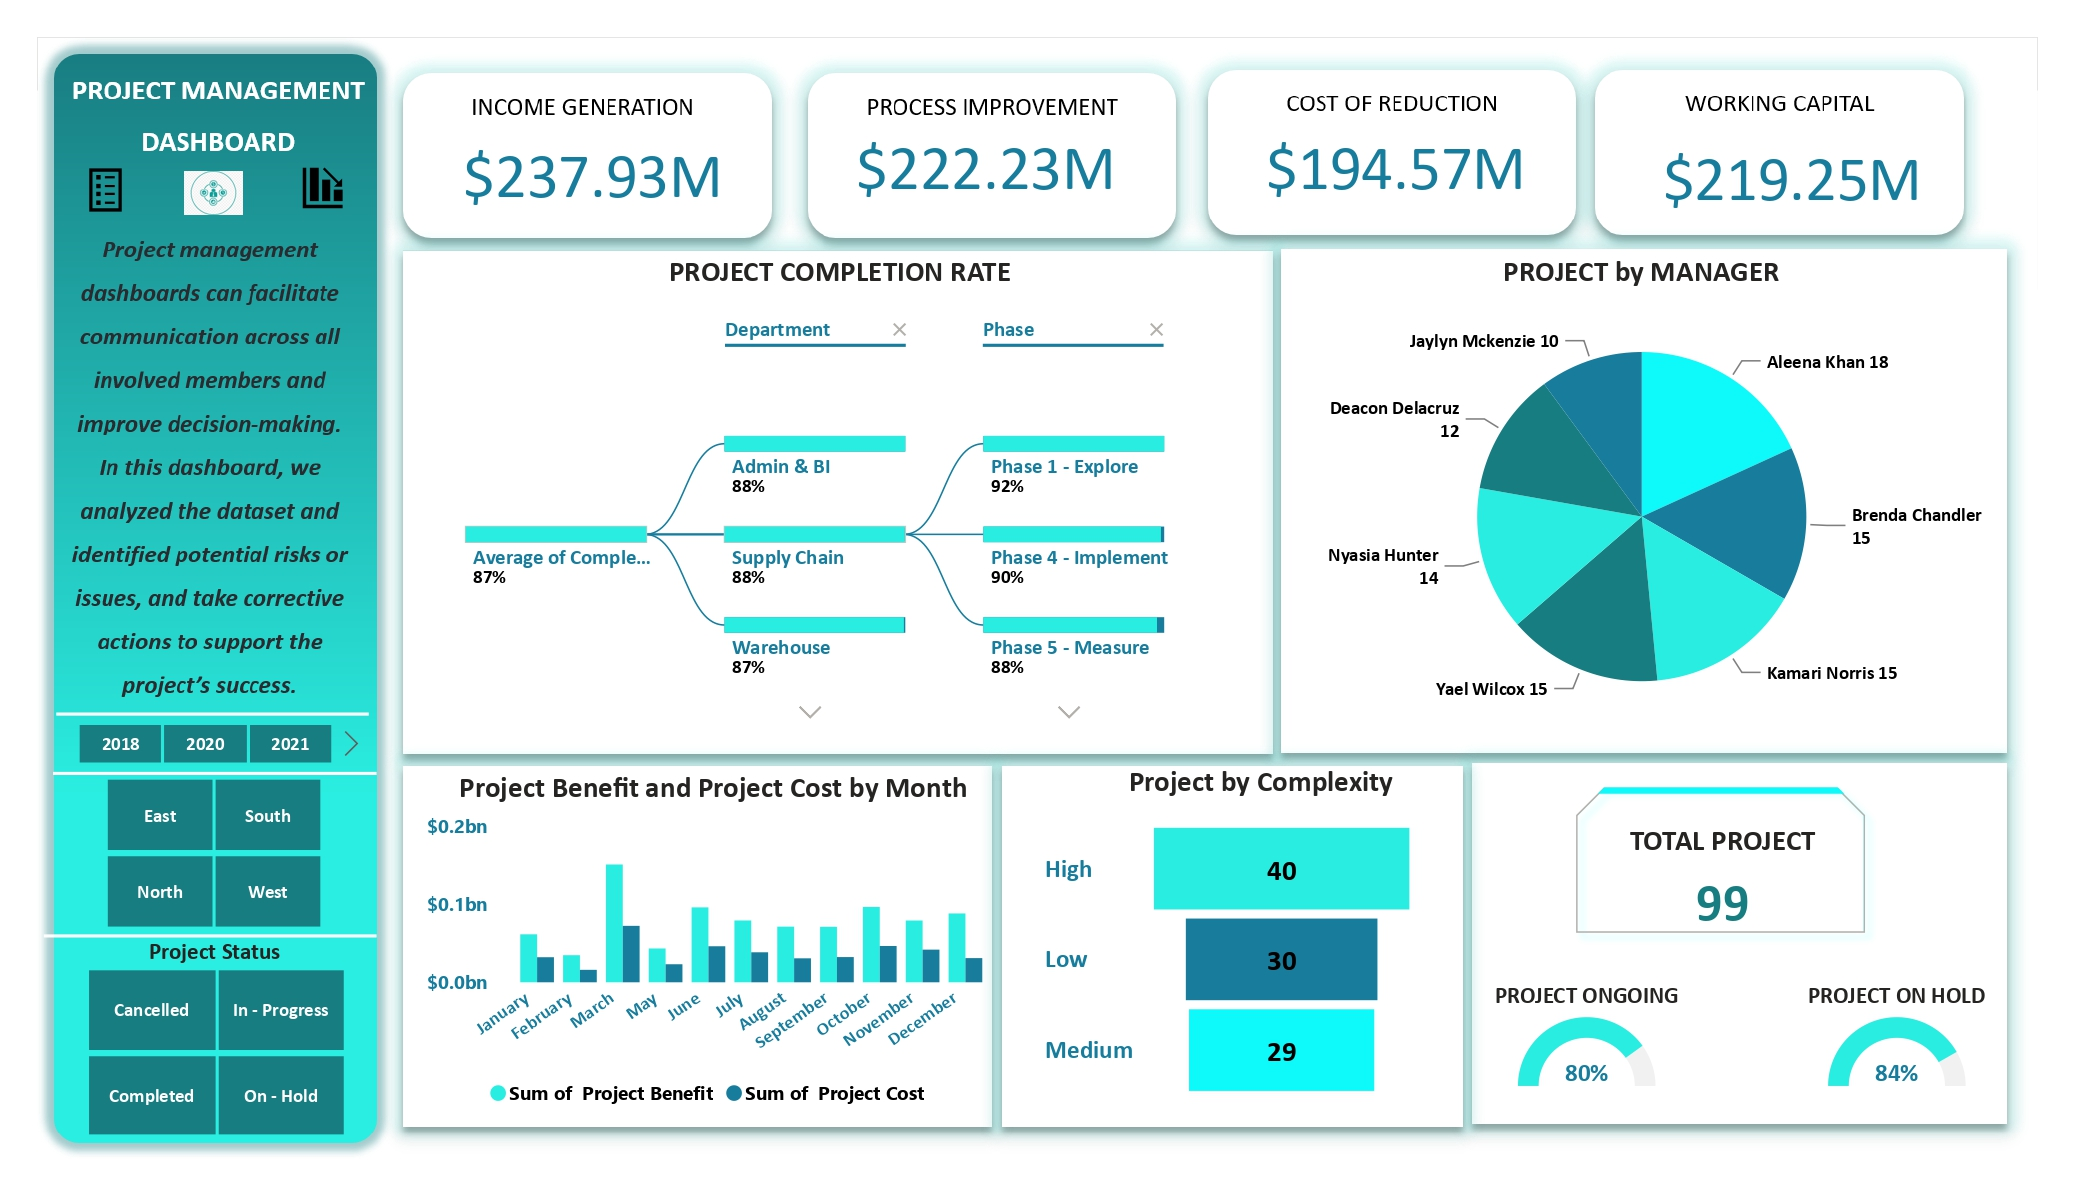

Layout of this report page (visuals, bound fields, positions):
{"tool":"powerbi","page":{"name":"Page 1","canvas":[1280,720],"ordinal":0},"visuals":[{"type":"card","title":"INCOME GENERATION","fields":{"Values":["Project Management Dataset. Project Benefit "]},"box":[261.7,52.7,187,66.7],"z":0},{"type":"card","title":"PROCESS IMPROVEMENT","fields":{"Values":["Project Management Dataset. Project Benefit "]},"box":[507.2,39,200.2,84.3],"z":1000},{"type":"cardVisual","fields":{"Data":["Project Management Dataset.Status"]},"box":[968.5,462.7,219.5,127.3],"z":2000},{"type":"card","title":"COST REDUCTION","fields":{"Values":["Project Management Dataset. Project Benefit "]},"box":[770.9,38.6,197.6,84.3],"z":3000},{"type":"card","title":"WORKING CAPITAL","fields":{"Values":["Project Management Dataset. Project Benefit "]},"box":[1030.8,52.7,184.4,70.2],"z":4000},{"type":"clusteredColumnChart","title":"Project Benefit  and Project Cost  by Month","fields":{"Y":["Project Management Dataset. Project Benefit ","Project Management Dataset. Project Cost "],"Category":["Project Management Dataset.End Date.Variation.Date Hierarchy.Month"]},"box":[243.8,467.7,377.1,226],"z":5000},{"type":"decompositionTreeVisual","title":"PROJECT COMPLETION RATE","fields":{"Analyze":["Project Management Dataset.Completion%"],"ExplainBy":["Project Management Dataset.Department","Project Management Dataset.Phase"]},"box":[243.8,137.5,539.6,314.6],"z":6000},{"type":"gauge","title":"PROJECT ONGOING","fields":{"Y":["Project Management Dataset.Completion%"]},"box":[926,604.2,131.2,71.9],"z":7000},{"type":"gauge","title":"PROJECT ON HOLD","fields":{"Y":["Project Management Dataset.Completion%"]},"box":[1122.9,604.2,134.4,71.9],"z":8000},{"type":"funnel","title":"Project by Complexity","fields":{"Category":["Project Management Dataset.Complexity"],"Y":["Project Management Dataset.Project Type"]},"box":[640.1,476.8,247.6,226.5],"z":9000},{"type":"textbox","box":[669.8,459.4,226,44.8],"z":10000},{"type":"pieChart","title":"PROJECT by MANAGER","fields":{"Category":["Project Management Dataset.Project Manager"],"Y":["Project Management Dataset.Completion%"]},"box":[795.8,137.5,461.5,314.6],"z":11000},{"type":"slicer","fields":{"Values":["Project Management Dataset.Year"]},"box":[0.9,432.9,211.6,37.8],"z":12000},{"type":"slicer","fields":{"Values":["Project Management Dataset.Status"]},"box":[7,590,212.5,119.4],"z":13000},{"type":"slicer","fields":{"Values":["Project Management Dataset.Region"]},"box":[19.3,468,186.1,108],"z":14000},{"type":"shape","box":[12.3,424,200.1,17.6],"z":15000},{"type":"shape","box":[9.7,464.6,207.2,12.3],"z":16000},{"type":"textbox","box":[32.6,571.2,161.3,36.1],"z":17000},{"type":"shape","box":[4.4,568.6,212.5,12.3],"z":18000}]}

Visuals, with their boxes on the page's 1280x720 design canvas (x1, y1, x2, y2). These are canvas units, not pixel positions in the 2075x1200 screenshot, which may show the page scaled, cropped or inside an application window:
"INCOME GENERATION" card: Rect(262, 53, 449, 119)
"PROCESS IMPROVEMENT" card: Rect(507, 39, 707, 123)
cardVisual - Project Management Dataset.Status: Rect(968, 463, 1188, 590)
"COST REDUCTION" card: Rect(771, 39, 968, 123)
"WORKING CAPITAL" card: Rect(1031, 53, 1215, 123)
"Project Benefit  and Project Cost  by Month" clusteredColumnChart: Rect(244, 468, 621, 694)
"PROJECT COMPLETION RATE" decompositionTreeVisual: Rect(244, 138, 783, 452)
"PROJECT ONGOING" gauge: Rect(926, 604, 1057, 676)
"PROJECT ON HOLD" gauge: Rect(1123, 604, 1257, 676)
"Project by Complexity" funnel: Rect(640, 477, 888, 703)
textbox: Rect(670, 459, 896, 504)
"PROJECT by MANAGER" pieChart: Rect(796, 138, 1257, 452)
slicer - Project Management Dataset.Year: Rect(1, 433, 212, 471)
slicer - Project Management Dataset.Status: Rect(7, 590, 220, 709)
slicer - Project Management Dataset.Region: Rect(19, 468, 205, 576)
shape: Rect(12, 424, 212, 442)
shape: Rect(10, 465, 217, 477)
textbox: Rect(33, 571, 194, 607)
shape: Rect(4, 569, 217, 581)
